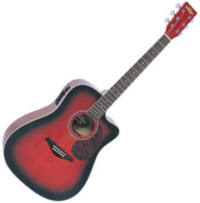guitar: (2, 2, 197, 202)
